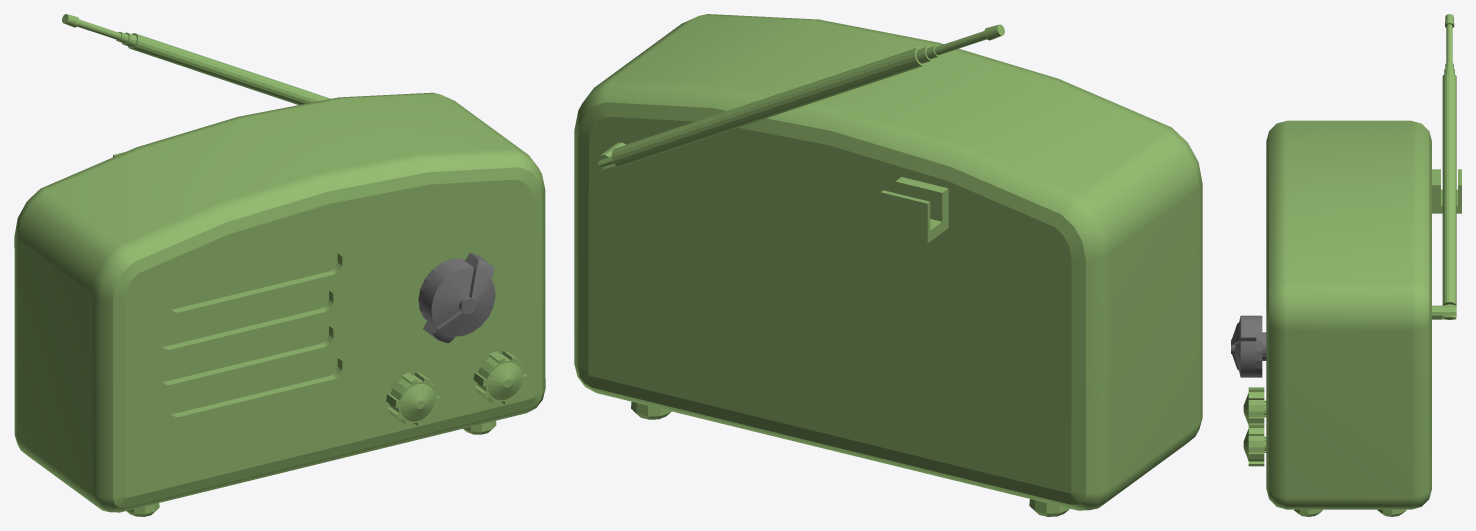
File: radio.fbx
3 views of the same model, side by side, from view 1: azimuth 30°, elevation 25°; view 2: azimuth 150°, elevation 25°; view 3: azimuth 270°, elevation 25° (orthographic). The views are drawn at different scales.
Parts seen in each view (by area): view 1: radio_base, perillagrande; view 2: radio_base; view 3: radio_base, perillagrande.
Part boxes in pixels (x1,y1,x2,y2): radio_base: (14,14,545,516); perillagrande: (418,253,495,343); radio_base: (574,14,1202,516); radio_base: (1243,14,1461,516); perillagrande: (1231,315,1266,377).
Size of the model in its own units: 0.9093 by 0.8364 by 0.4803.
